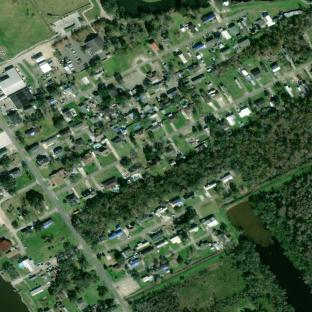Floresta: (72, 95, 312, 245), (249, 169, 312, 291), (229, 235, 294, 312), (242, 10, 312, 64), (48, 241, 99, 300), (93, 18, 148, 57), (131, 292, 181, 312), (148, 13, 173, 34), (216, 54, 242, 72), (61, 147, 80, 170), (0, 170, 17, 194), (26, 189, 44, 208)
